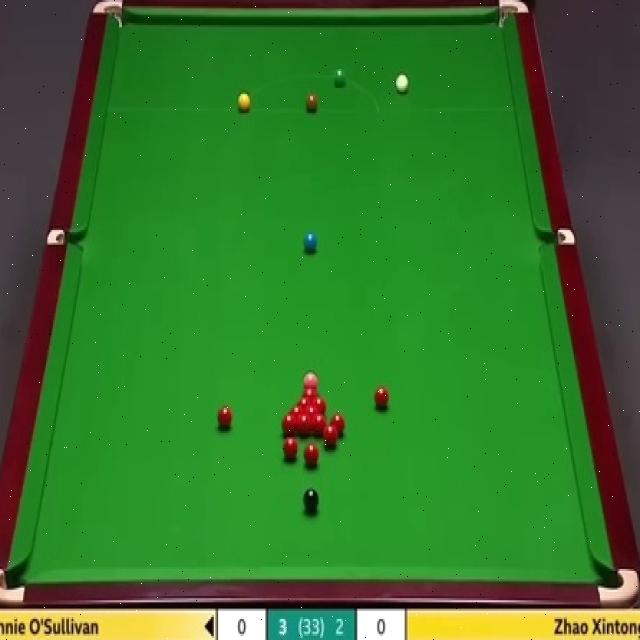black-ball: (303, 487, 320, 514)
blue-ball: (304, 232, 318, 252)
brown-ball: (305, 93, 318, 113)
green-ball: (331, 64, 349, 91)
pink-ball: (303, 370, 317, 383)
red-ball: (216, 406, 233, 432), (283, 436, 299, 461), (304, 442, 320, 467), (280, 412, 296, 436), (330, 412, 345, 437), (374, 386, 389, 411), (312, 413, 327, 437), (296, 412, 310, 435), (323, 426, 337, 448), (312, 395, 326, 412), (300, 384, 318, 395), (303, 405, 320, 413), (296, 396, 311, 405), (289, 405, 303, 414)
white-ball: (395, 70, 410, 96)
yellow-ball: (237, 93, 250, 112)
